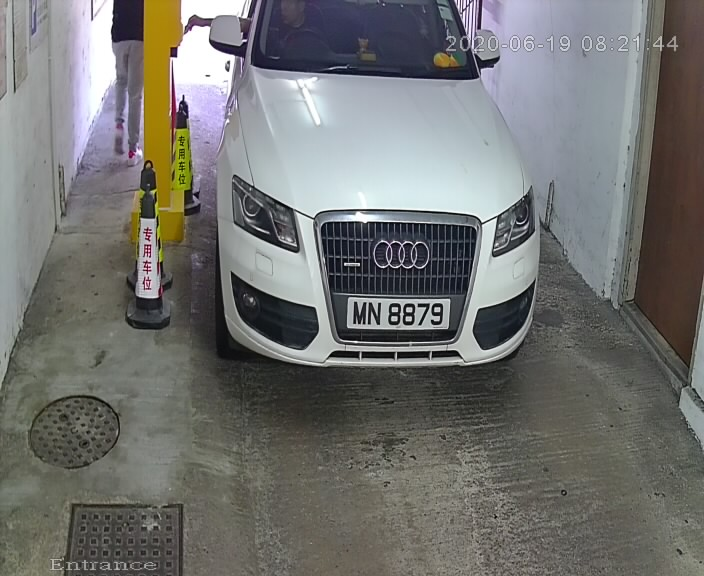bottom_left_lp: (345, 324, 351, 330)
bottom_left_radiator: (331, 333, 346, 341)
bottom_left_windshield: (245, 60, 260, 70)
bottom_right_lp: (444, 325, 451, 330)
bottom_right_radiator: (448, 331, 460, 344)
bottom_right_windshield: (473, 71, 483, 83)
brand: (370, 236, 433, 272)
left_headlight: (234, 175, 304, 256)
right_headlight: (493, 183, 535, 258)
top_left_lp: (344, 294, 354, 303)
top_left_radiator: (316, 217, 331, 233)
top_right_lp: (446, 295, 452, 303)
top_right_radiator: (469, 221, 483, 235)
